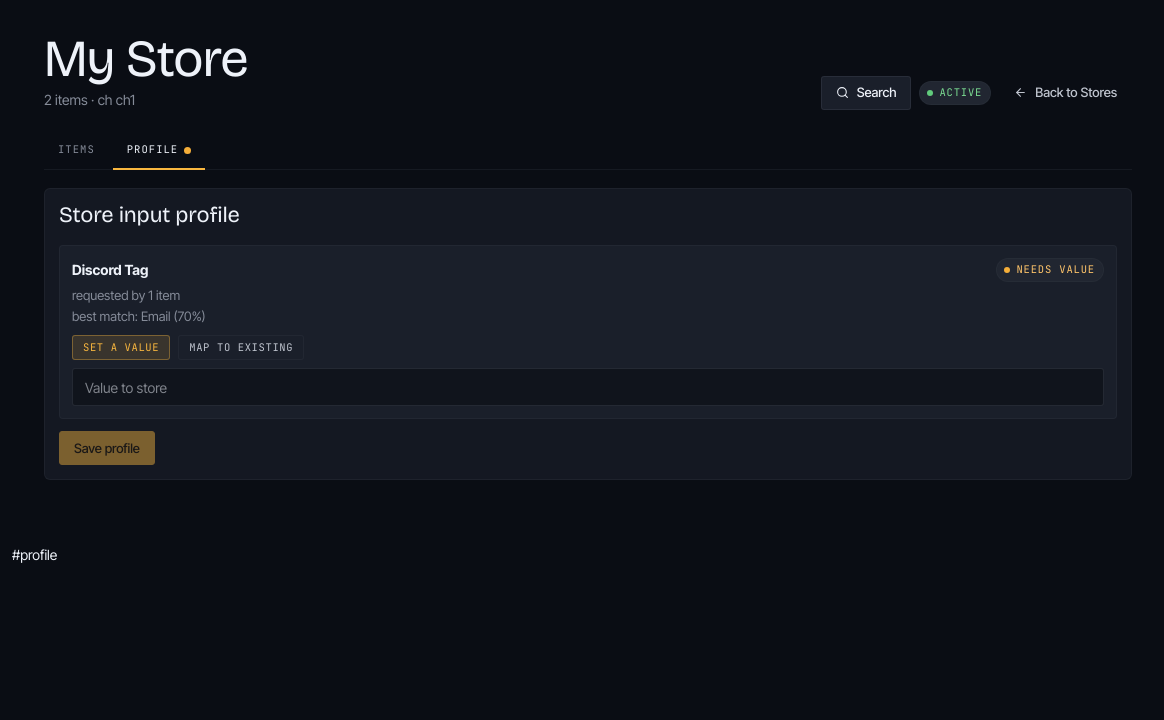
Test: StoreDetailPage notification dot › dot clears after setting a value for the last unresolved input
Expected: the element with test id "notification-dot" is shown, 184,147 -> 191,154
In the field with test id "profile-value-Discord Tag": x=588, y=387 72,368 -> 1104,406, type "user#1234"
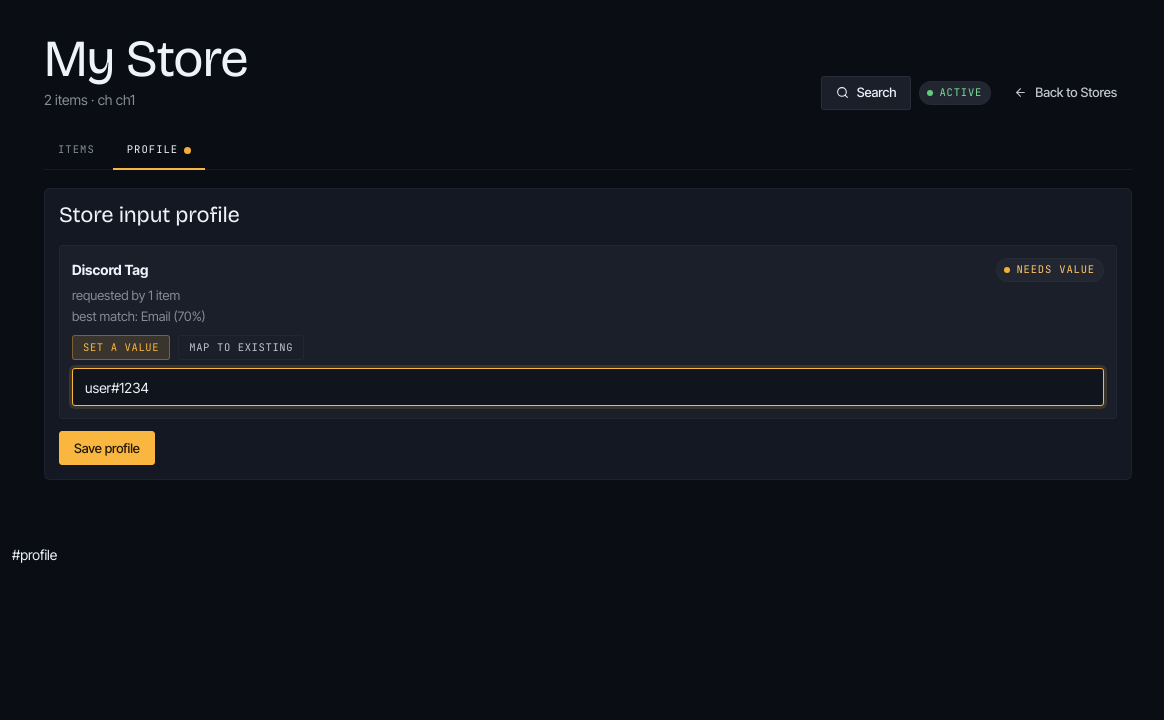
Click the button "Save profile": x=107, y=448 59,431 -> 155,465
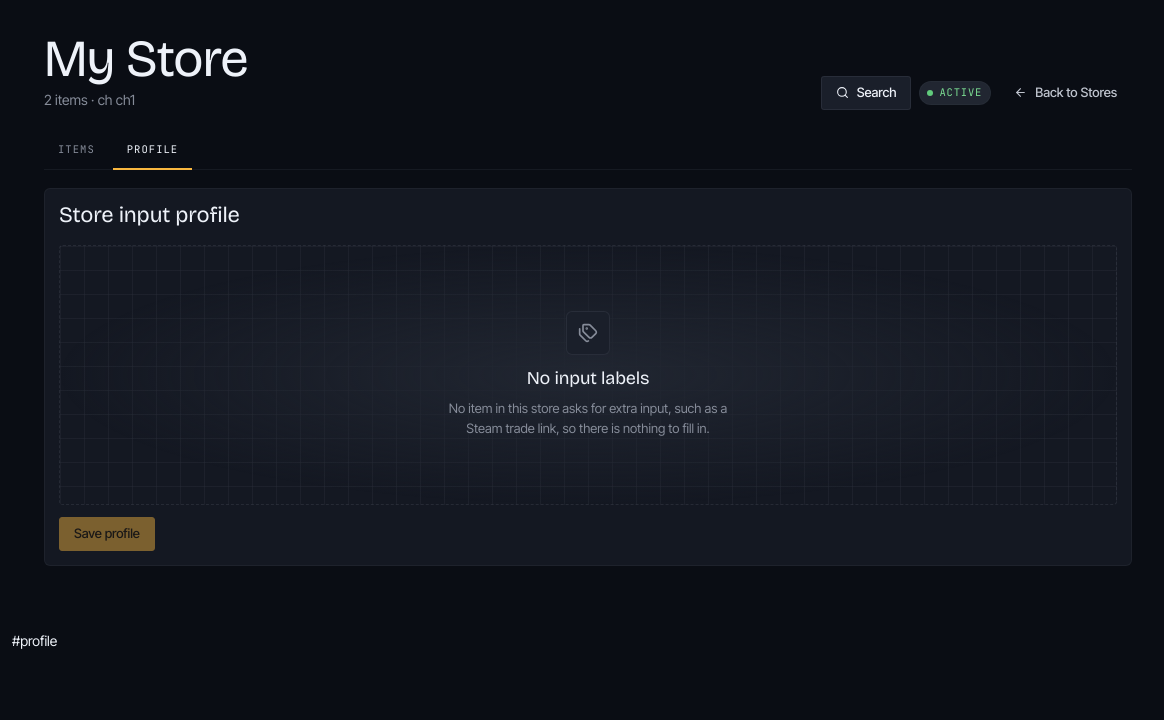
Now the element with test id "notification-dot" is gone
